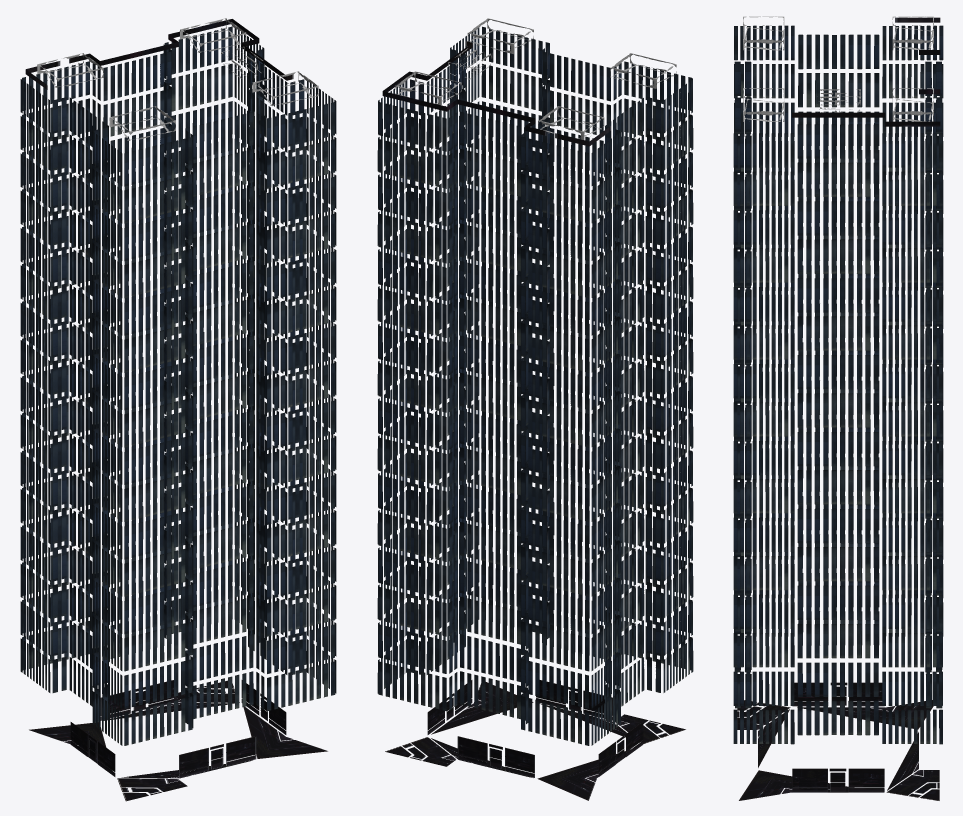
File: si_building_19.fbx
3 views of the same model, side by side, from view 1: azimuth 30°, elevation 25°; view 2: azimuth 150°, elevation 25°; view 3: azimuth 270°, elevation 25° (orthographic). The views are drawn at different scales.
Visible parts, largest first — view 1: si_building_19; view 2: si_building_19; view 3: si_building_19.
Boxes of the visible parts, x1,y1,x2,y2 form: si_building_19: (20,18,336,801); si_building_19: (377,18,693,800); si_building_19: (733,16,943,800).
Size of the model in its own units: 124 by 358 by 104.
1 material, 1 textured.
